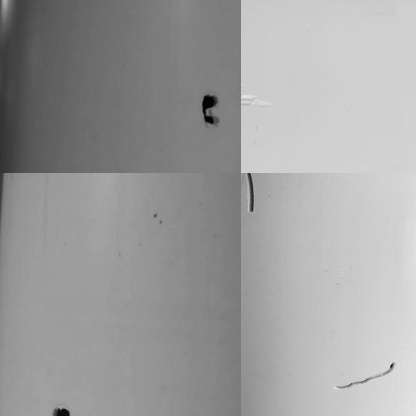fengxi: (332, 360, 395, 390), (242, 173, 258, 213)
kongdong: (197, 90, 221, 128), (49, 402, 68, 415)
sunshang: (238, 91, 271, 110)
